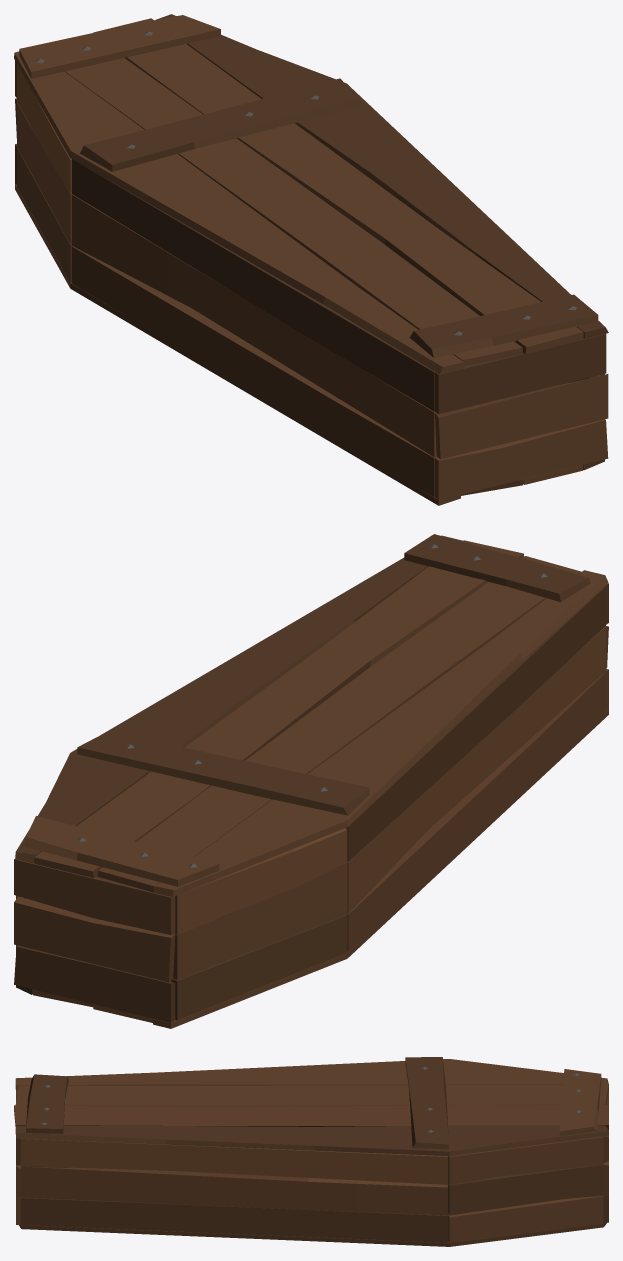
File: Coffin.fbx
3 views of the same model, one above another, from view 1: azimuth 30°, elevation 25°; view 2: azimuth 150°, elevation 25°; view 3: azimuth 270°, elevation 25° (orthographic). The views are drawn at different scales.
Parts seen in each view (by area): view 1: coffin_old_cover; view 2: coffin_old_cover; view 3: coffin_old_cover.
Boxes of the visible parts, bbox=[...] form: coffin_old_cover: bbox=[14, 14, 608, 505]; coffin_old_cover: bbox=[14, 534, 608, 1028]; coffin_old_cover: bbox=[14, 1057, 608, 1246].
Size of the model in its own units: 7351 by 3727 by 19791.
